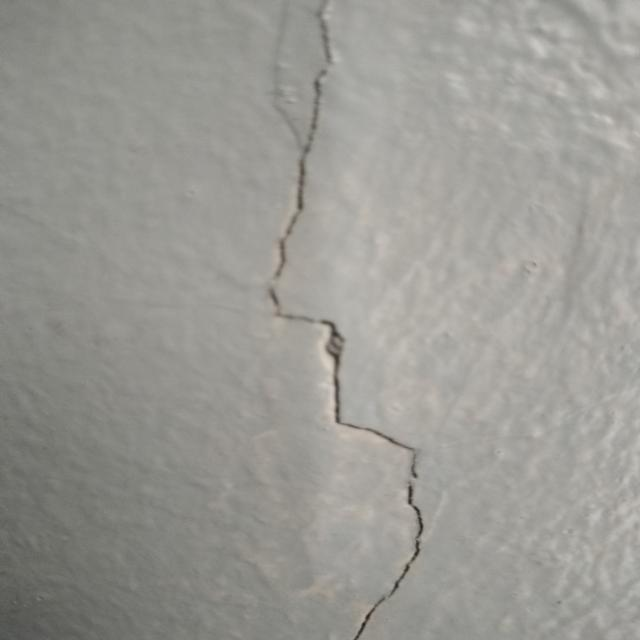Crack: (261, 0, 434, 640)
